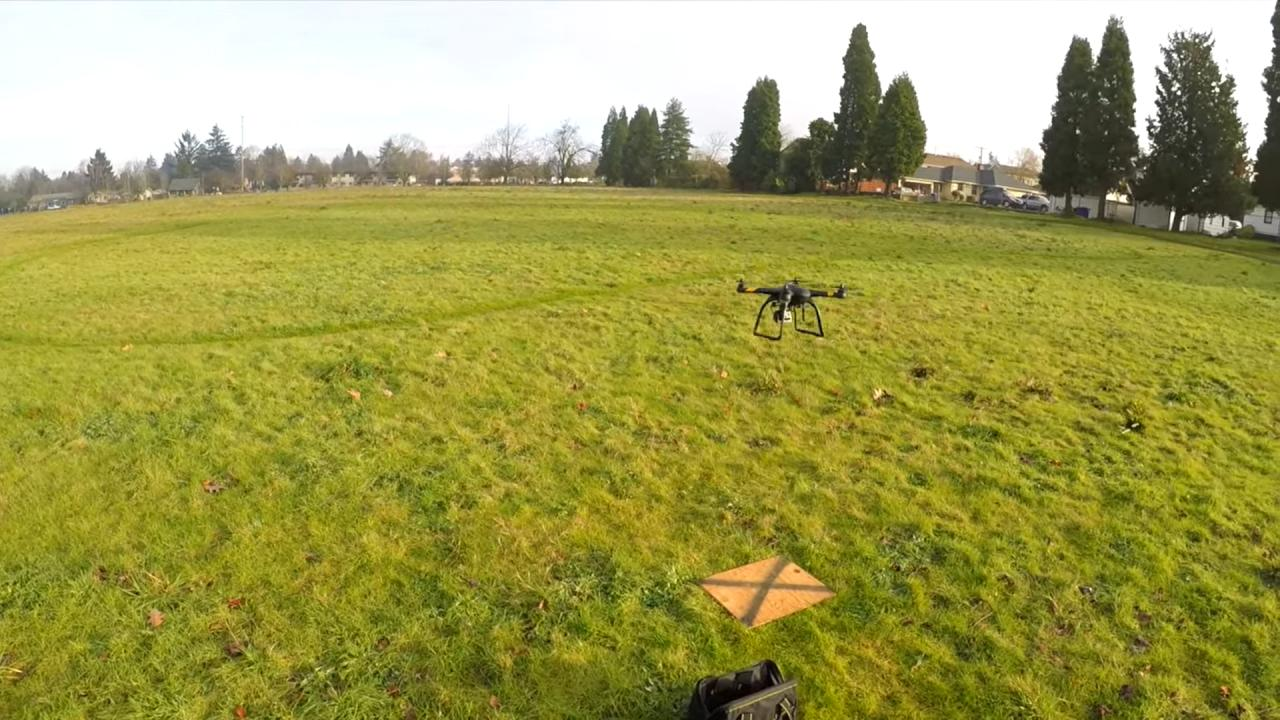Drone: (726, 270, 859, 346)
